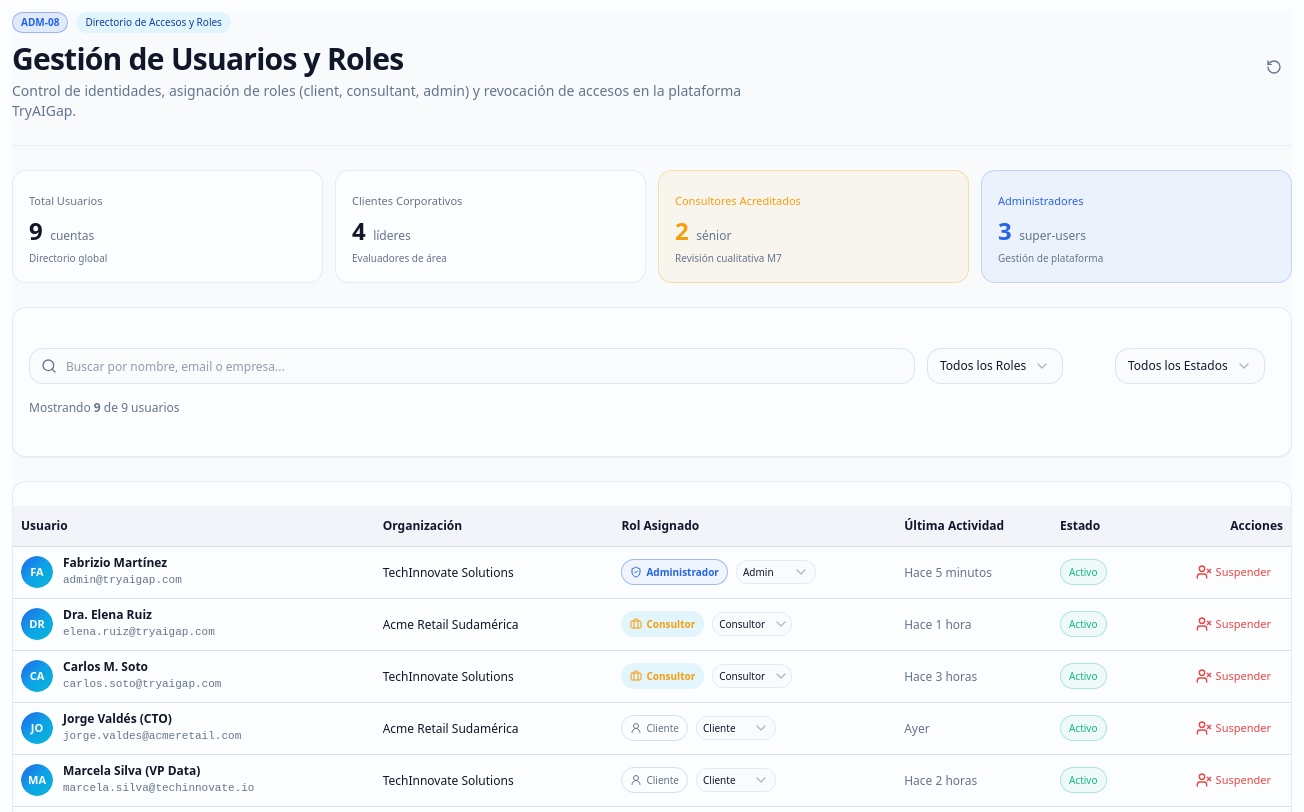
Test: AdminUsers Page › toggles user status when clicking suspend button
The image size is (1304, 812).
Click the button "Suspender" in the row of "Fabrizio Martínez".
click(1233, 572)  # box top-left (1184, 558), bottom-right (1283, 586)
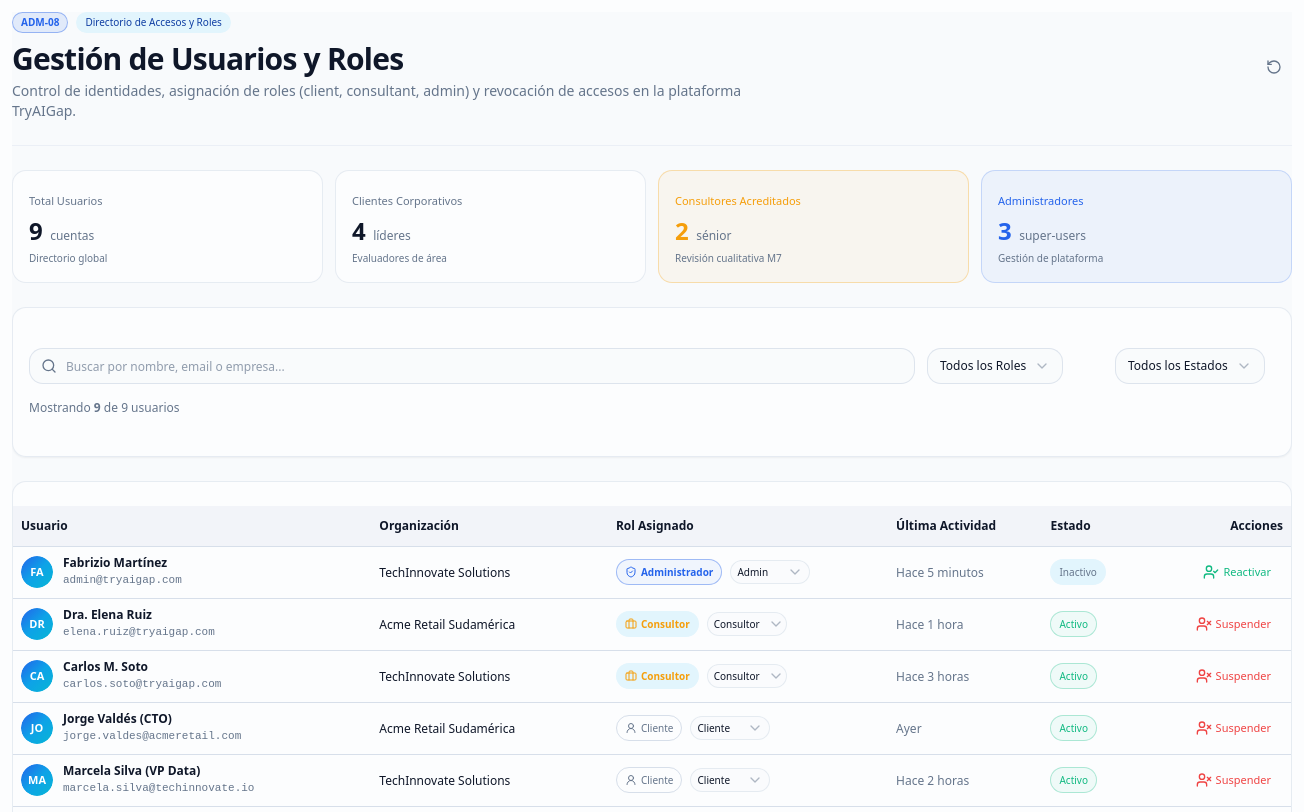
Check: the button "Reactivar" is shown, box top-left (1191, 558), bottom-right (1283, 586)
